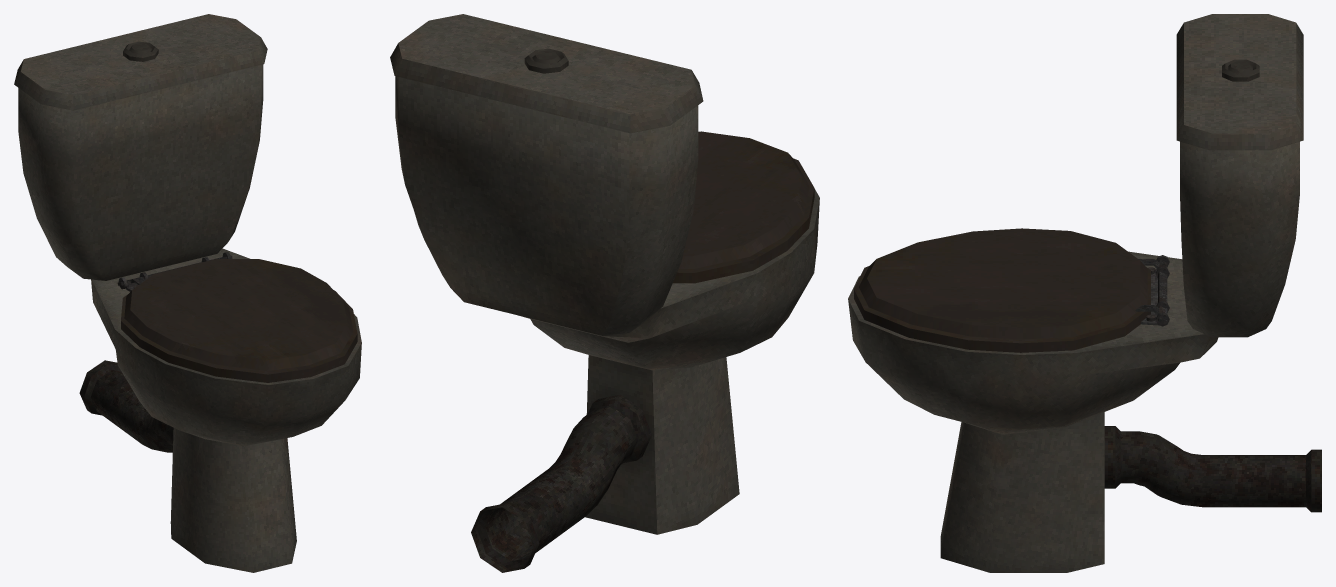
File: toilet_mp_1_1.glb
3 renders of one model, left to right at view 1: azimuth 30°, elevation 25°; view 2: azimuth 150°, elevation 25°; view 3: azimuth 270°, elevation 25°, orthographic. The views are drawn at different scales.
Parts seen in each view (by area): view 1: toilet_mp_1_1, toilet_mp_1_1_lid; view 2: toilet_mp_1_1, toilet_mp_1_1_lid; view 3: toilet_mp_1_1, toilet_mp_1_1_lid.
Part boxes in pixels (x1,y1,x2,y2): toilet_mp_1_1: (14, 14, 361, 572); toilet_mp_1_1_lid: (117, 252, 353, 370); toilet_mp_1_1: (390, 14, 819, 572); toilet_mp_1_1_lid: (679, 131, 809, 268); toilet_mp_1_1: (848, 14, 1321, 572); toilet_mp_1_1_lid: (859, 228, 1169, 339).
Size of the model in its own units: 0.5624 by 1.01 by 0.8968.
3 materials, 3 textured.
